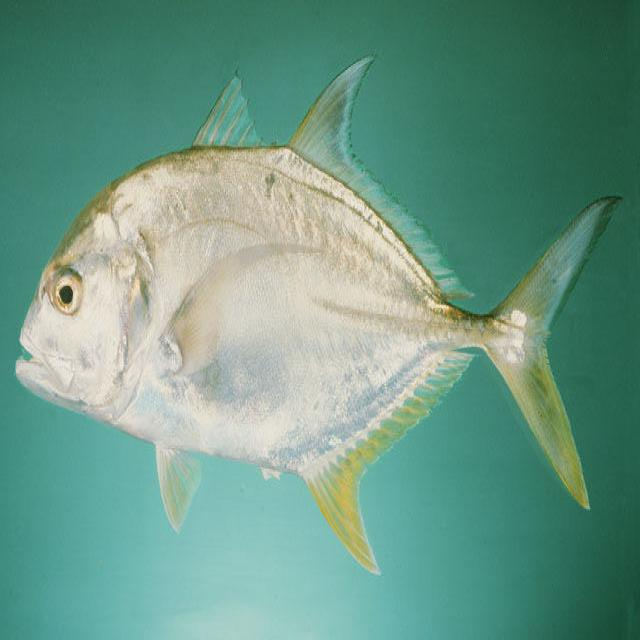ikan: (9, 48, 626, 592)
